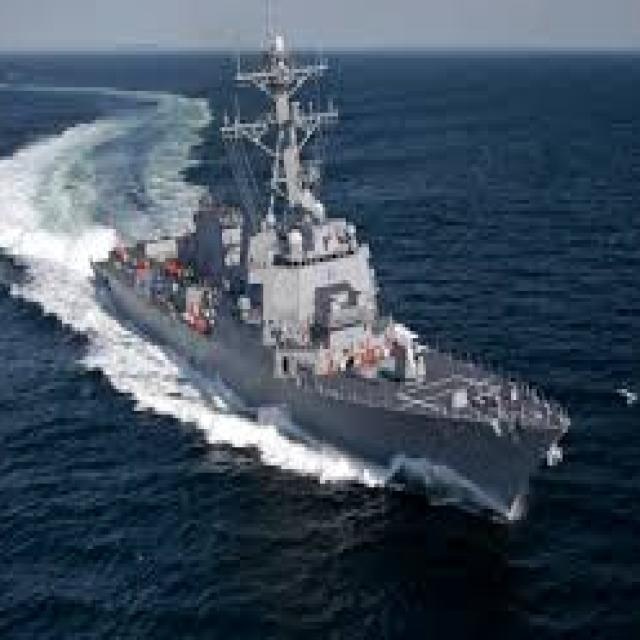navalvessels: (77, 0, 560, 542)
